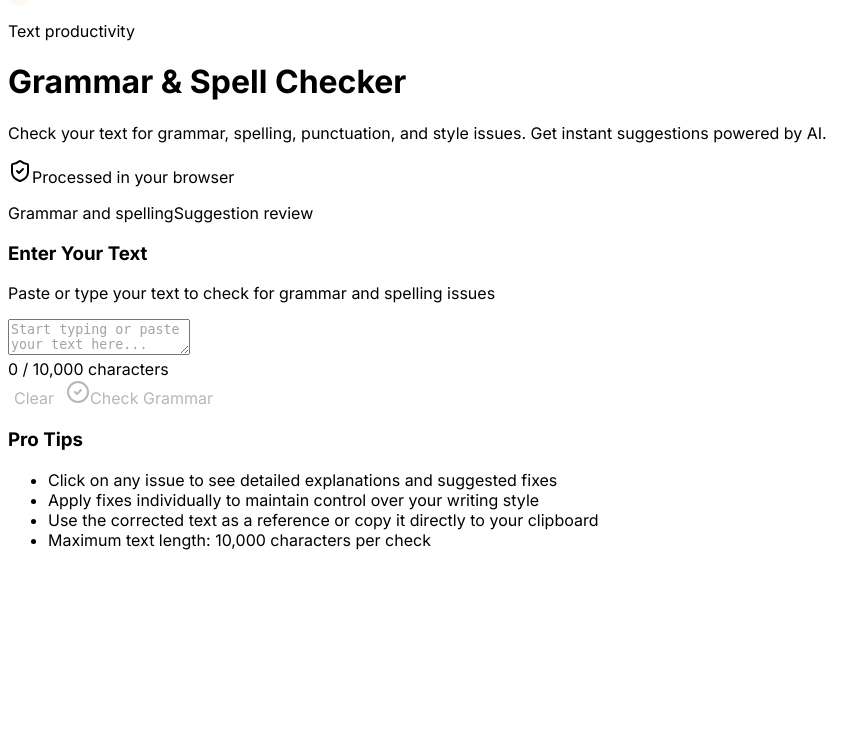
Scenario: Grammar Checker Page › Issue Interaction › expands issue details when clicked
Type "teh cat" into the text box with placeholder "Start typing or paste your text here..." at point(99, 337), box [8, 319, 190, 355]
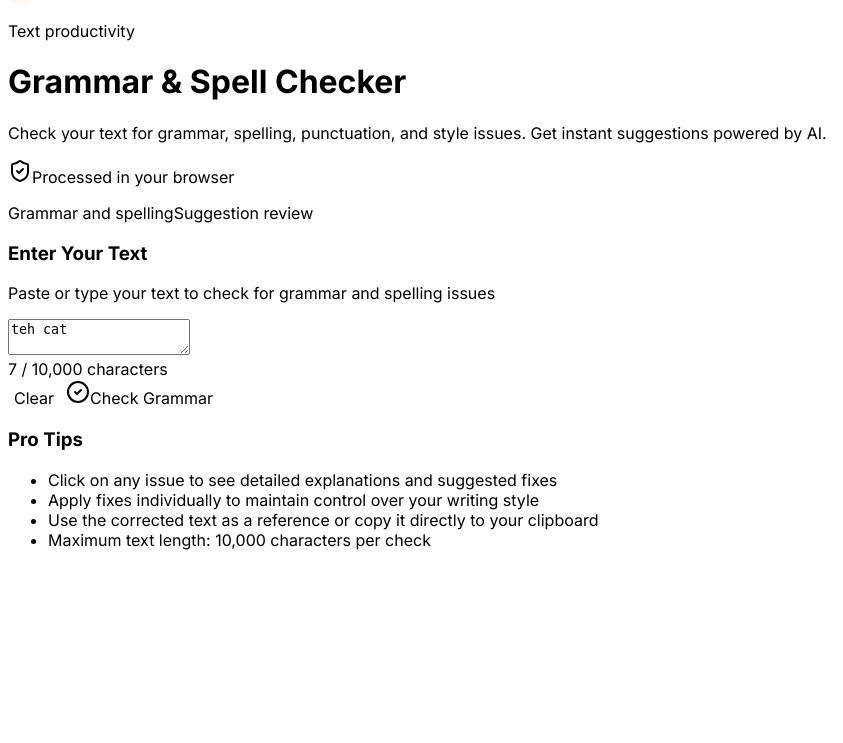
Click the button "Check Grammar" at point(140, 394), box [60, 379, 219, 409]
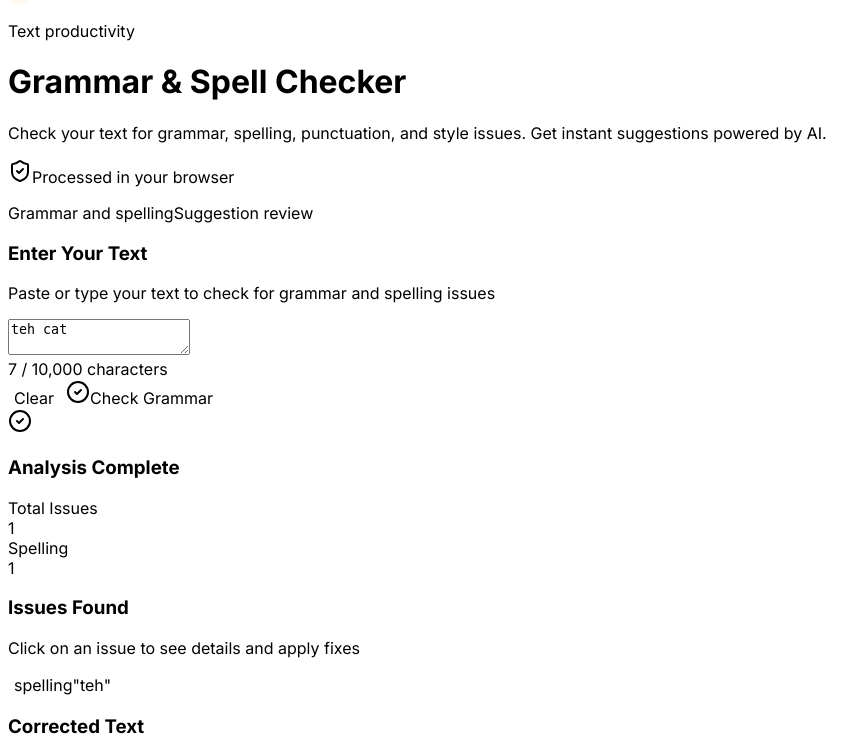
Now the text "\"teh\"" is shown, box [72, 675, 111, 695]
Click the button "spelling\"teh\"" at point(63, 685), box [8, 674, 117, 696]
(page scrolled)
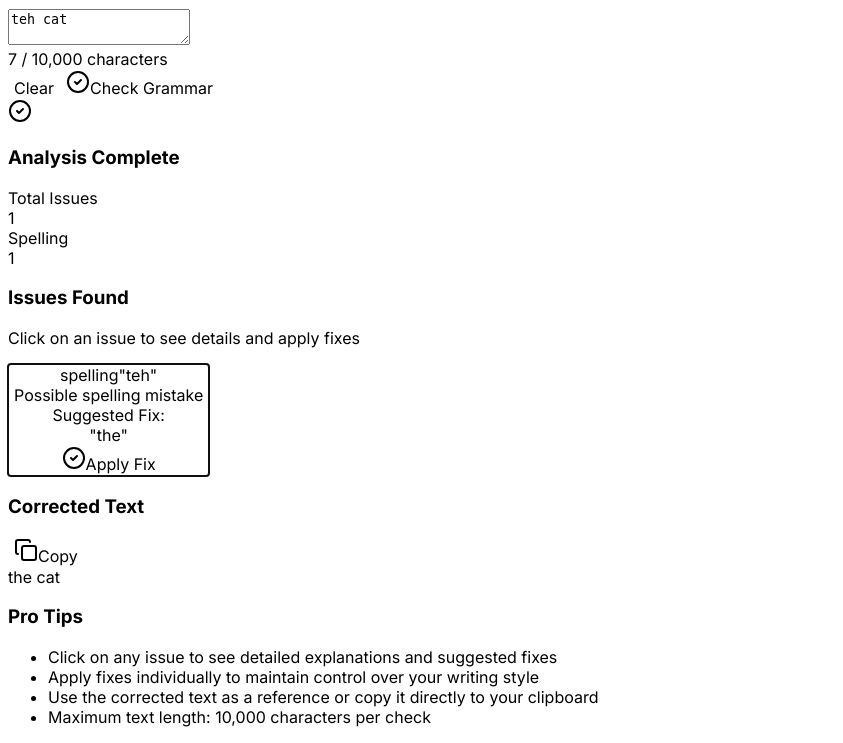
Now the text "Possible spelling mistake" is shown, box [14, 385, 203, 405]
Now the text "\"the\"" is shown, box [89, 425, 128, 445]
Now the button "Apply Fix" is shown, box [56, 445, 162, 475]
